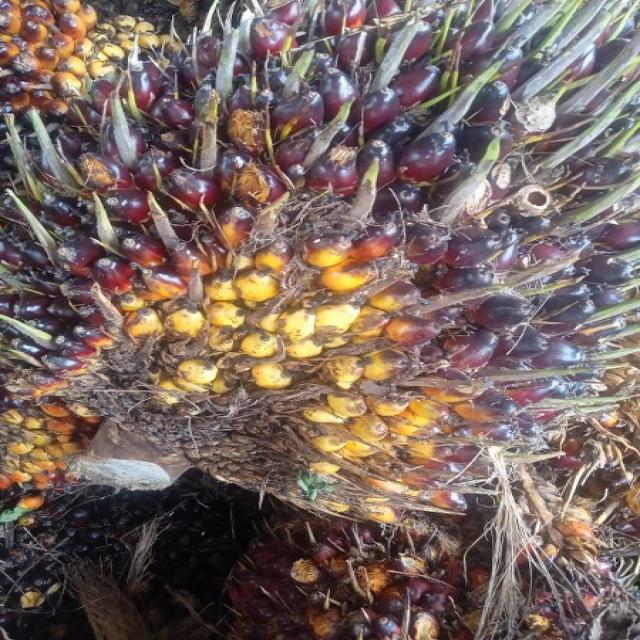fraksi 00: (4, 0, 640, 509)
